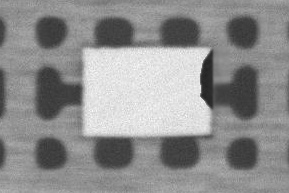DIE_BROKEN: (199, 51, 215, 109)
